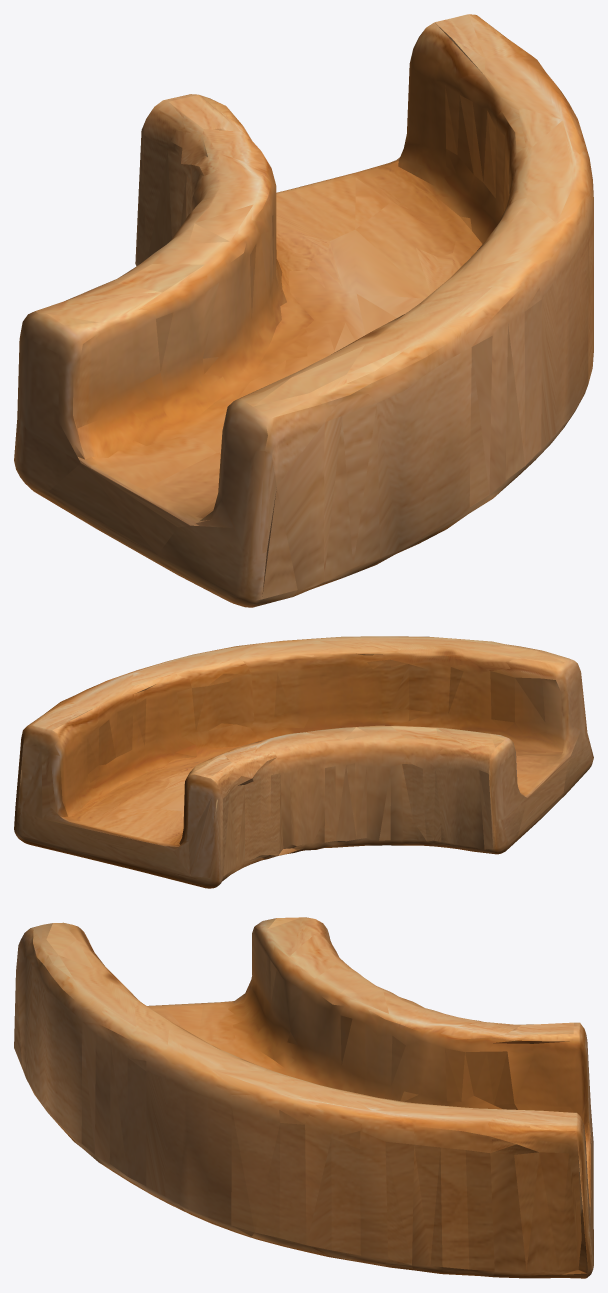
File: channel_curve.glb
The picture shows the model from 3 angles, top to bottom: view 1: azimuth 30°, elevation 25°; view 2: azimuth 150°, elevation 25°; view 3: azimuth 270°, elevation 25°; orthographic projection. The views are drawn at different scales.
Parts seen in each view (by area): view 1: tripo_node_5f7f6c0c; view 2: tripo_node_5f7f6c0c; view 3: tripo_node_5f7f6c0c.
Boxes of the visible parts, <box> form: tripo_node_5f7f6c0c: <box>14,14,593,607</box>; tripo_node_5f7f6c0c: <box>14,636,593,888</box>; tripo_node_5f7f6c0c: <box>14,917,593,1278</box>.
Bounding box in the file's own units: 0.6759 × 0.1978 × 0.6844.
1 material, 1 textured.
